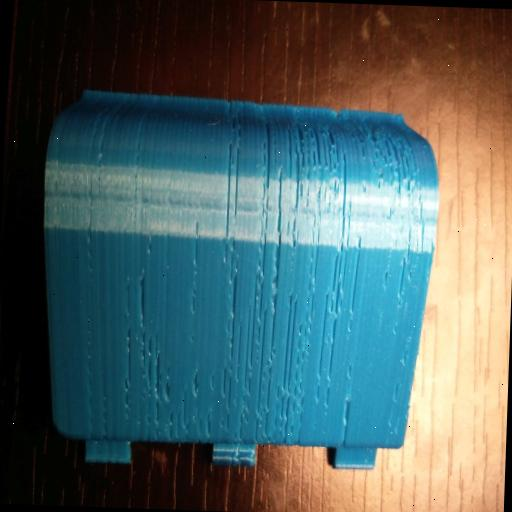cracks: (210, 112, 346, 426), (116, 207, 209, 444), (361, 134, 413, 304)
